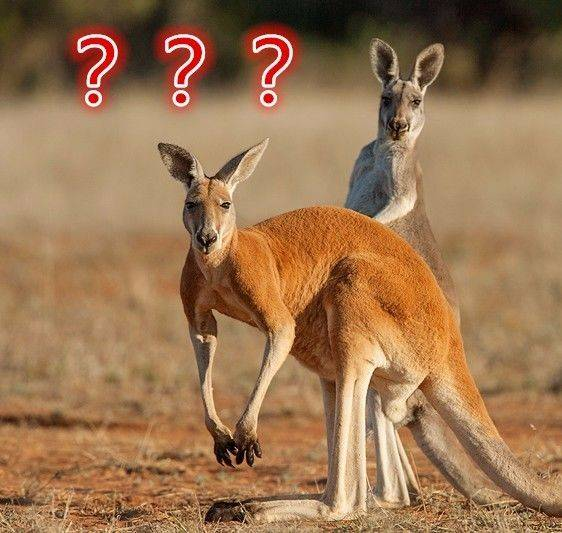kangaroo: (155, 137, 562, 531), (343, 36, 515, 515)
